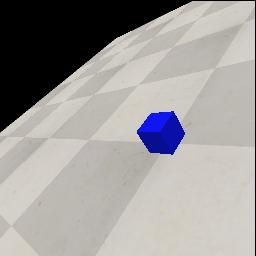box: (137, 111, 185, 155)
